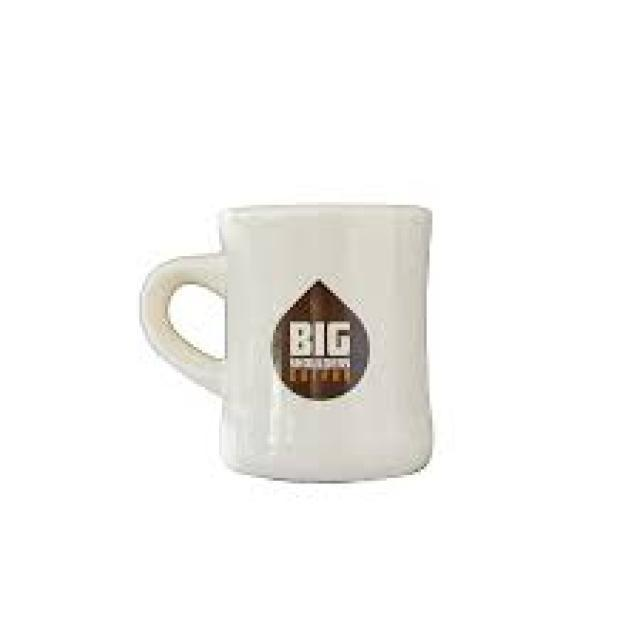taza: (138, 200, 434, 486)
